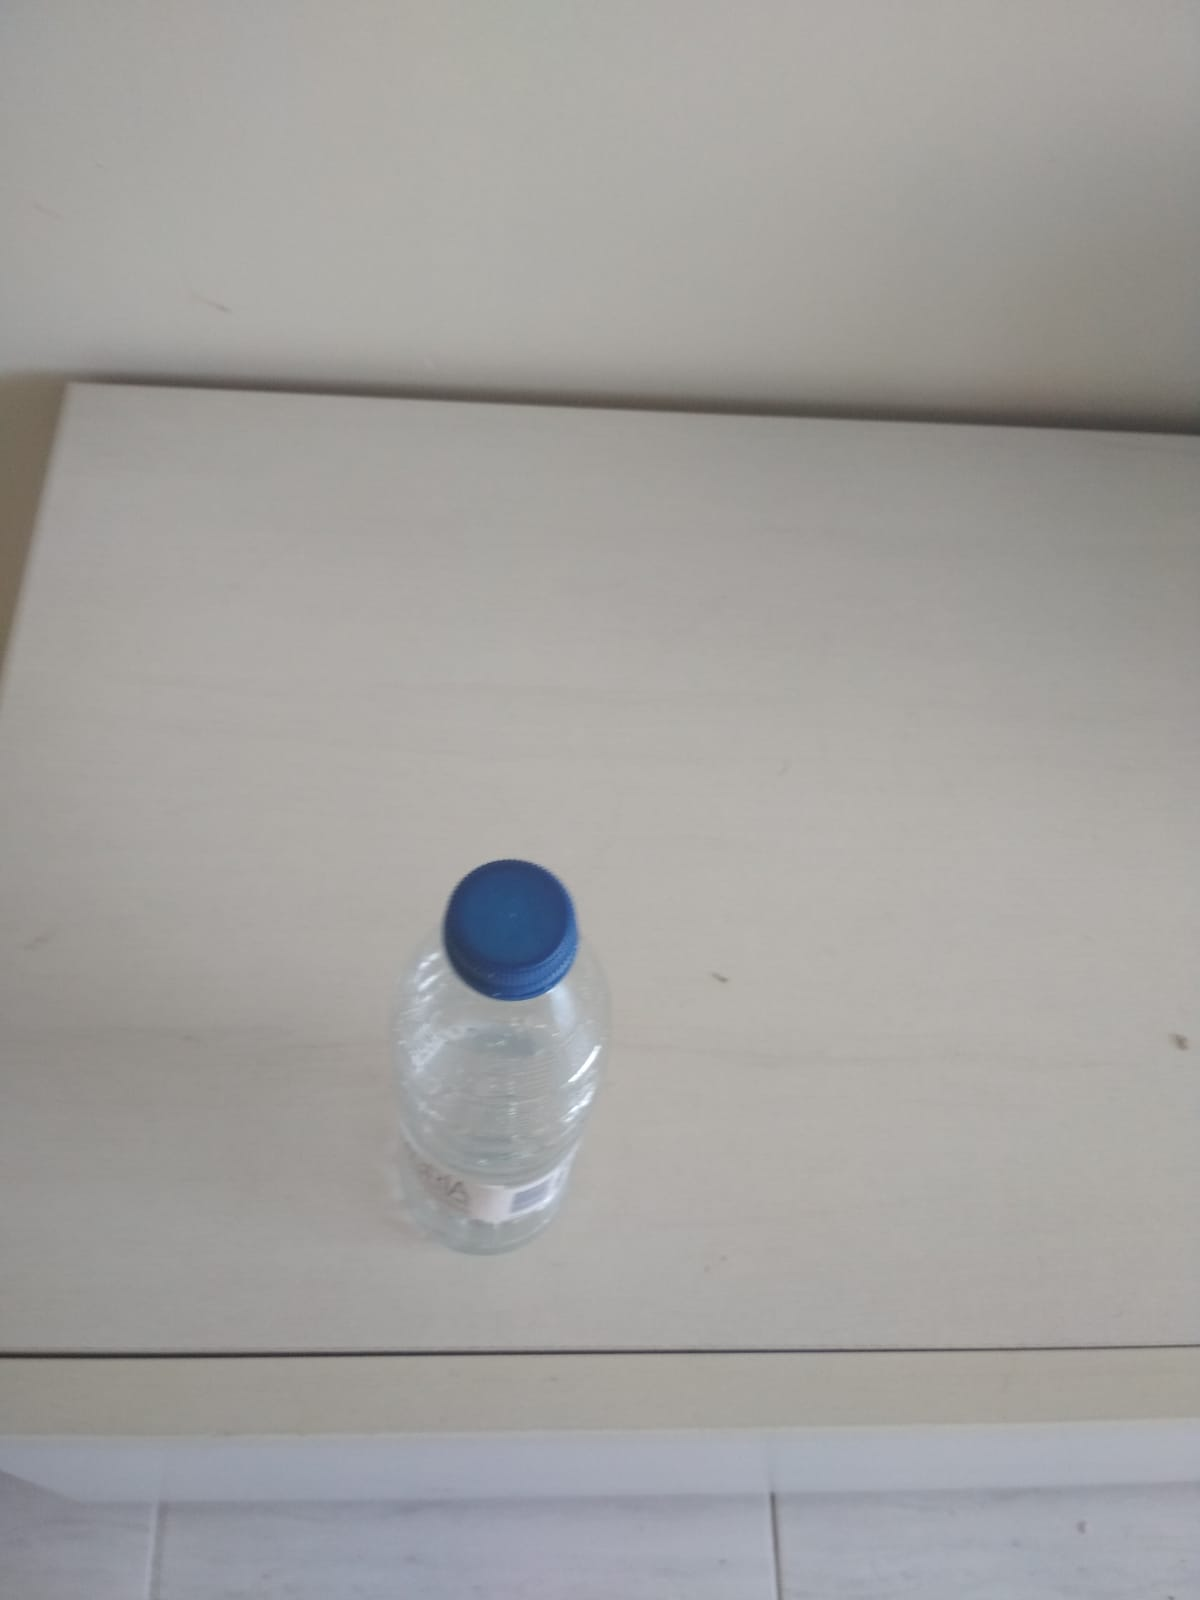botella plastico: (388, 855, 614, 1262)
